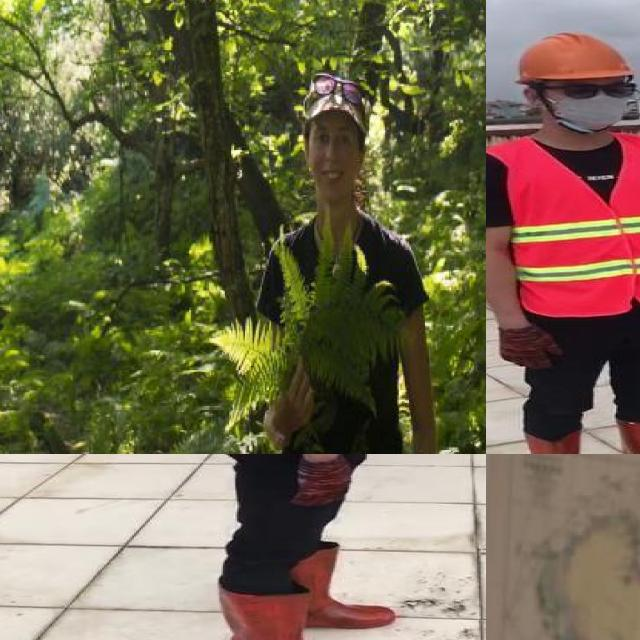boots: (217, 580, 381, 640), (291, 548, 397, 630), (521, 430, 598, 454)
face_mask: (540, 73, 640, 131)
face_nomask: (307, 126, 360, 187)
glasses: (254, 52, 439, 454), (304, 65, 369, 127), (550, 75, 640, 103)
hand_glove: (289, 458, 351, 509), (494, 325, 564, 370)
hand_noglove: (267, 354, 320, 434)
head_helmet: (498, 30, 638, 86)
person: (486, 29, 640, 454), (157, 454, 436, 640)
vest: (507, 132, 640, 314)
